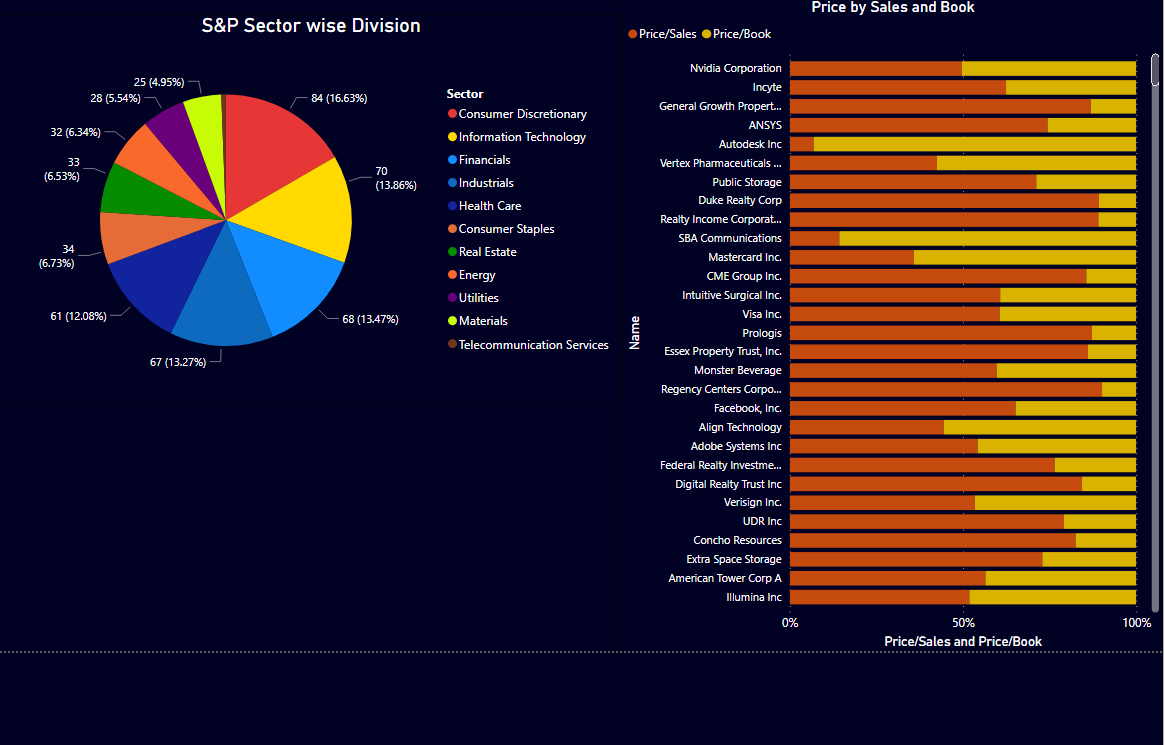

What the dashboard file says about the page in this screenshot:
{"tool":"powerbi","page":{"name":"Page 3","canvas":[1280,720],"ordinal":2},"visuals":[{"type":"pieChart","title":"S&P Sector wise Division","fields":{"Category":["financials.Sector"],"Y":["CountNonNull(financials.Sector)"]},"box":[0,17.9,684.7,429],"z":0},{"type":"hundredPercentStackedBarChart","title":"Price by Sales and Book","fields":{"Category":["financials.Name"],"Y":["Sum(financials.Price/Sales)","Sum(financials.Price/Book)"]},"box":[684.7,0,595.3,720.4],"z":1000}]}

Visuals, with their boxes on the page's 1280x720 design canvas (x1, y1, x2, y2). These are canvas units, not pixel positions in the 1165x745 screenshot, which may show the page scaled, cropped or inside an application window:
"S&P Sector wise Division" pieChart: left=0, top=18, right=685, bottom=447
"Price by Sales and Book" hundredPercentStackedBarChart: left=685, top=0, right=1280, bottom=720
